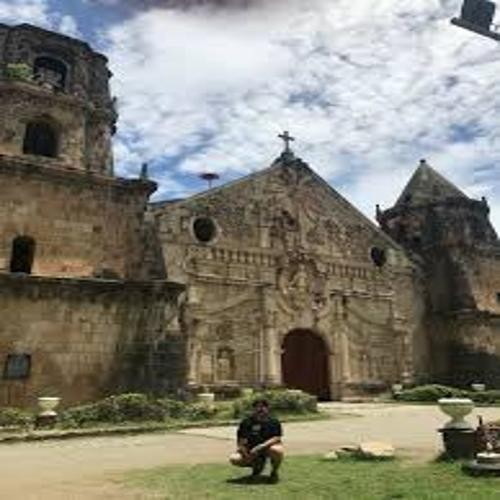Miagao Church: (4, 20, 500, 402)
